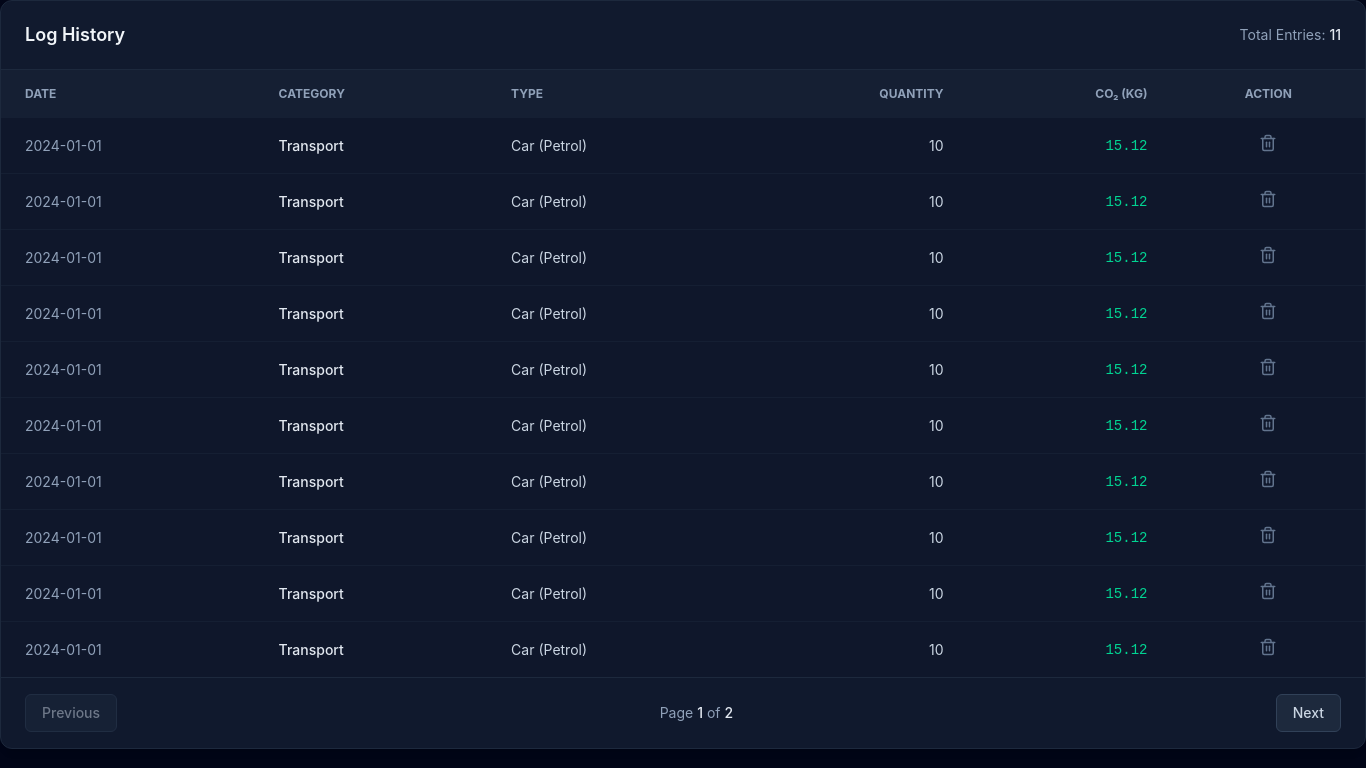
it: LogTable › 12. Next button is disabled on the last page
Click the button "Next" at coordinates (1308, 713), box [1276, 694, 1341, 732]
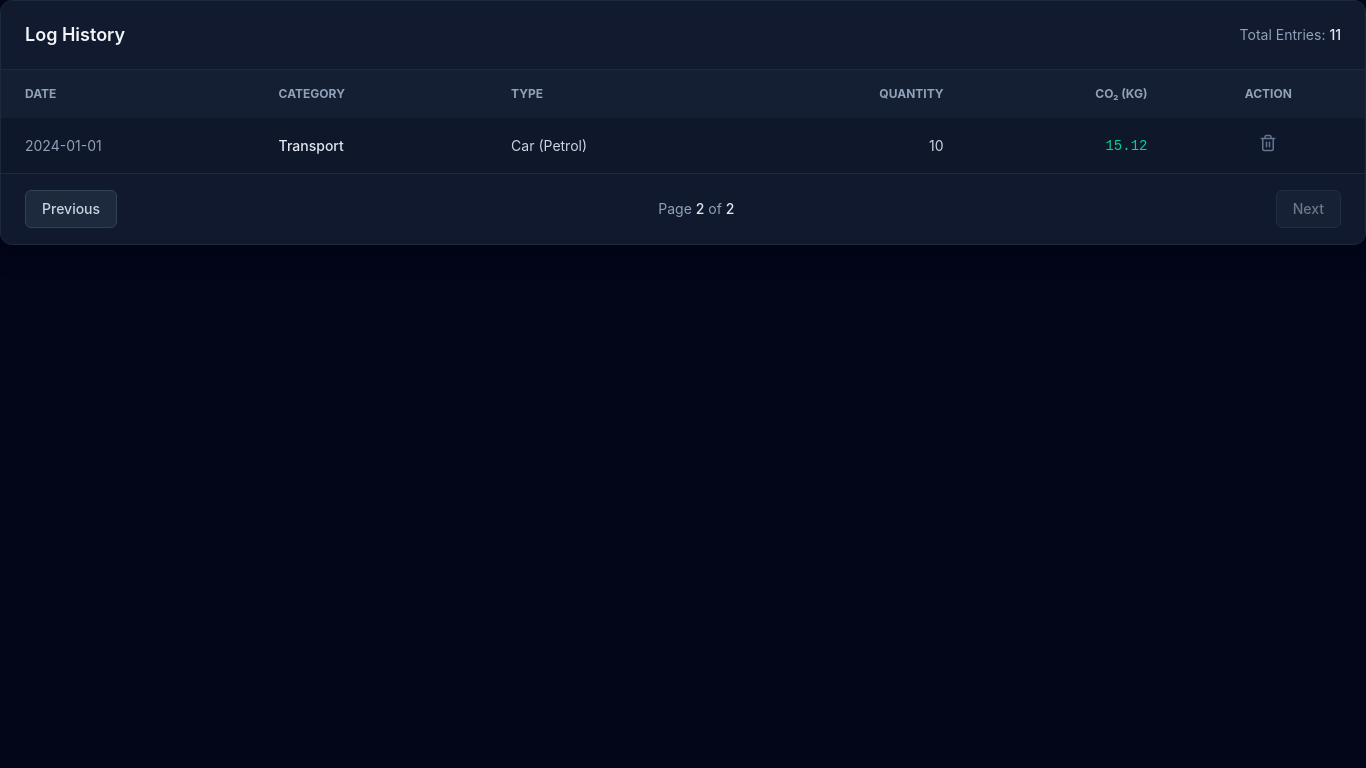
Expected: the button "Next" is disabled, [1276, 190, 1341, 228]
